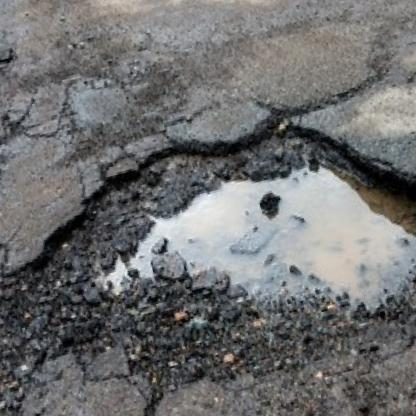pothole: (12, 71, 416, 416), (0, 47, 18, 86)
